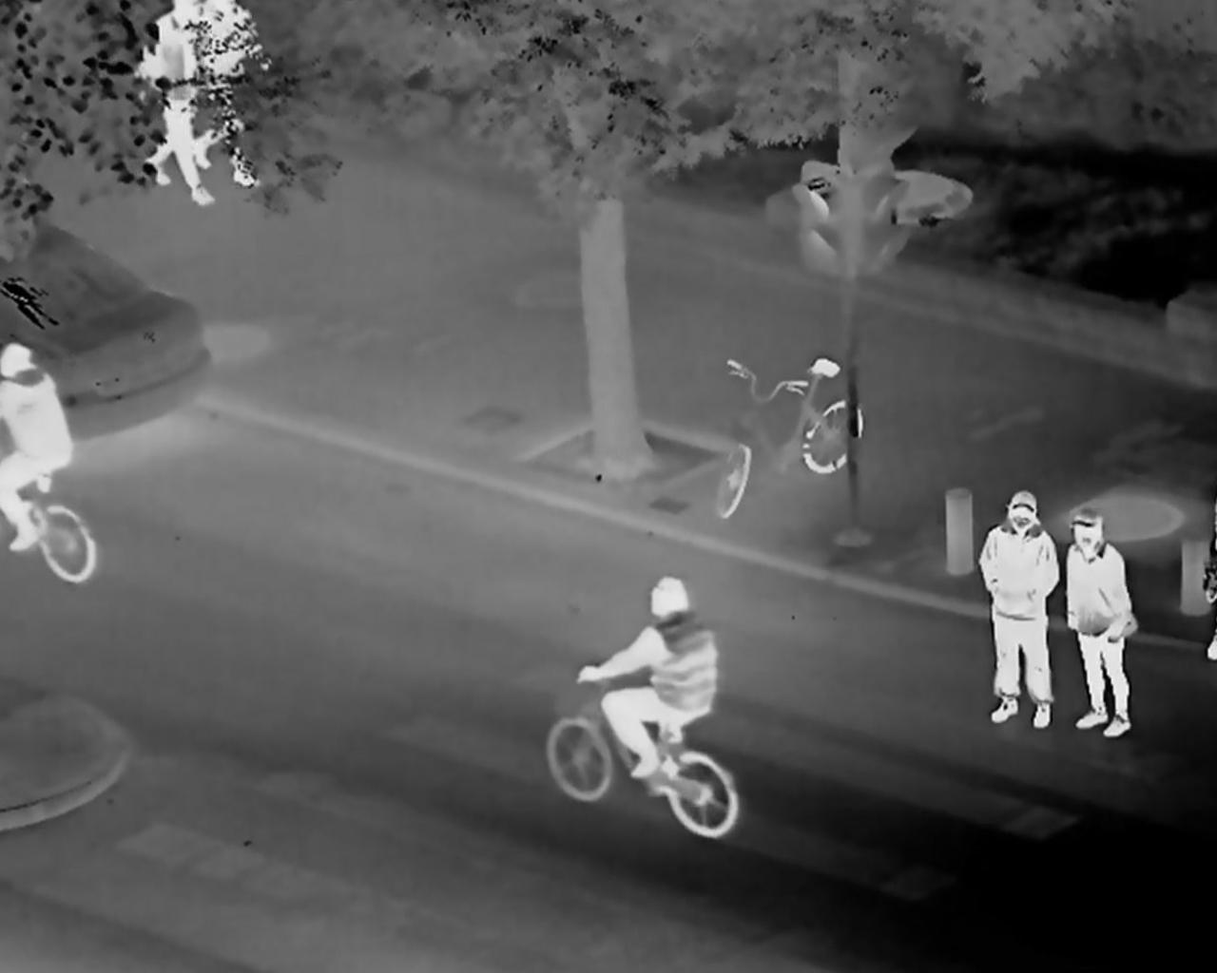person: (581, 581, 722, 790), (977, 489, 1056, 729), (1065, 506, 1137, 741)
